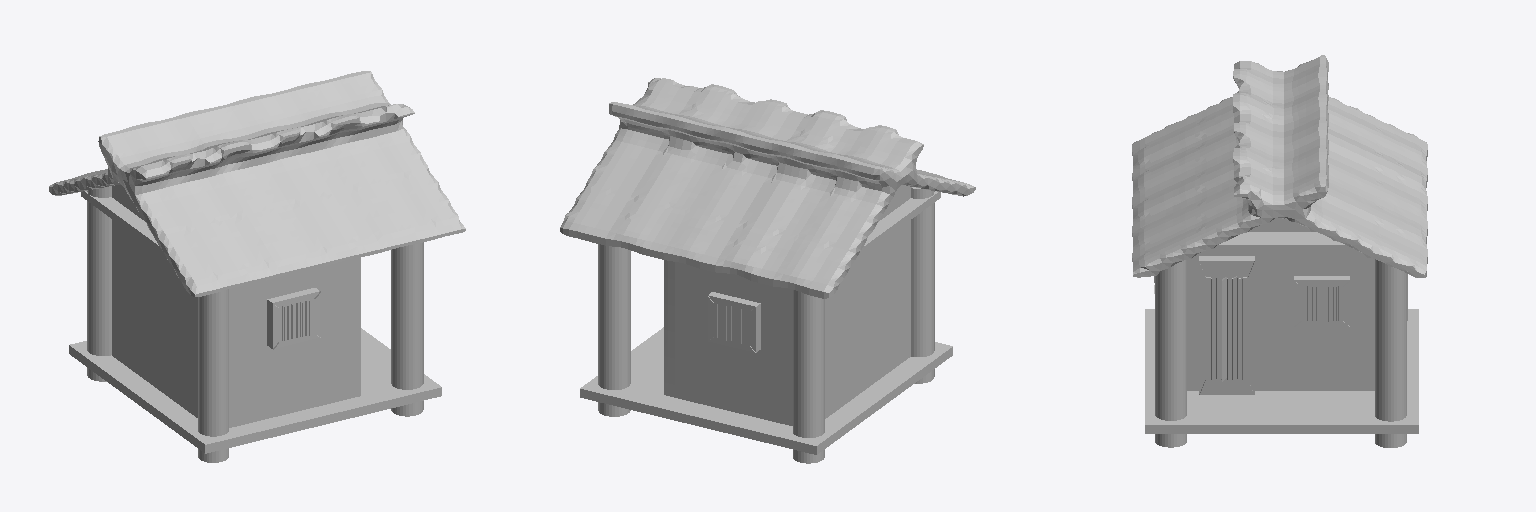
File: Kubo-Lv1.obj
The picture shows the model from 3 angles: view 1: azimuth 30°, elevation 25°; view 2: azimuth 150°, elevation 25°; view 3: azimuth 270°, elevation 25°; orthographic projection.
Parts seen in each view (by area): view 1: Cube.004, Cube.001, Cube, Cylinder.003, Cylinder.002, Cylinder, Cube.002, Cube.003; view 2: Cube.004, Cube.001, Cube, Cylinder.001, Cylinder, Cylinder.002, Cube.002, Cube.003; view 3: Cube.004, Cube.001, Cube, Cube.002, Cylinder.001, Cylinder.003, Cube.003.
Part boxes in pixels (left/top/right/bottom): Cube.004: left=49, top=71, right=465, bottom=296; Cube.001: left=112, top=185, right=360, bottom=427; Cube: left=69, top=328, right=441, bottom=453; Cylinder.003: left=391, top=242, right=423, bottom=416; Cylinder.002: left=198, top=289, right=228, bottom=462; Cylinder: left=87, top=186, right=111, bottom=381; Cube.002: left=267, top=288, right=320, bottom=349; Cube.003: left=81, top=191, right=166, bottom=258; Cube.004: left=560, top=78, right=975, bottom=298; Cube.001: left=664, top=185, right=911, bottom=425; Cube: left=580, top=327, right=952, bottom=454; Cylinder.001: left=598, top=244, right=630, bottom=416; Cylinder: left=793, top=290, right=824, bottom=463; Cylinder.002: left=911, top=187, right=934, bottom=383; Cube.002: left=708, top=292, right=760, bottom=352; Cube.003: left=856, top=191, right=940, bottom=259; Cube.004: left=1132, top=55, right=1427, bottom=277; Cube.001: left=1187, top=218, right=1374, bottom=390; Cube: left=1145, top=309, right=1418, bottom=433; Cube.002: left=1154, top=256, right=1349, bottom=394; Cylinder.001: left=1375, top=259, right=1406, bottom=447; Cylinder.003: left=1155, top=260, right=1186, bottom=447; Cube.003: left=1203, top=232, right=1358, bottom=251.
Bounding box in the file's own units: 5.6 × 5.38 × 5.23.